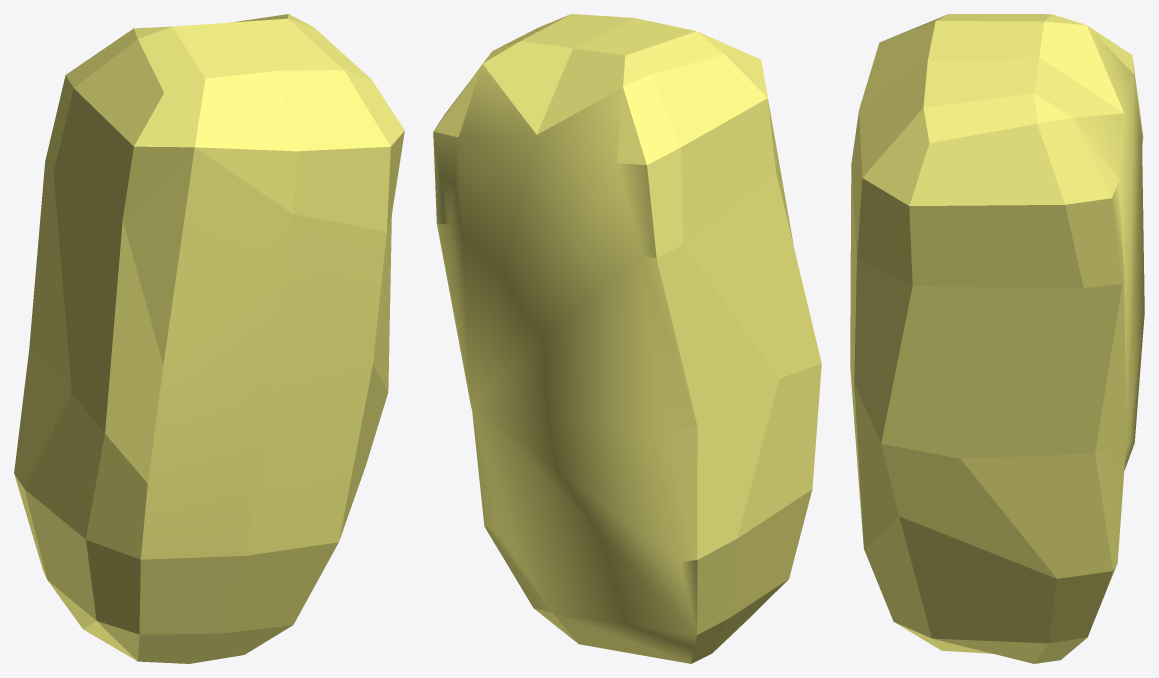
File: C_PeeledPotato.fbx
3 views of the same model, side by side, from view 1: azimuth 30°, elevation 25°; view 2: azimuth 150°, elevation 25°; view 3: azimuth 270°, elevation 25° (orthographic). The views are drawn at different scales.
Parts seen in each view (by area): view 1: Potato; view 2: Potato; view 3: Potato.
Part boxes in pixels (box(x1,y1,x2,y2)): Potato: box(14, 14, 404, 663); Potato: box(433, 14, 821, 663); Potato: box(850, 14, 1144, 663).
Size of the model in its own units: 14.37 by 26.71 by 11.44.
